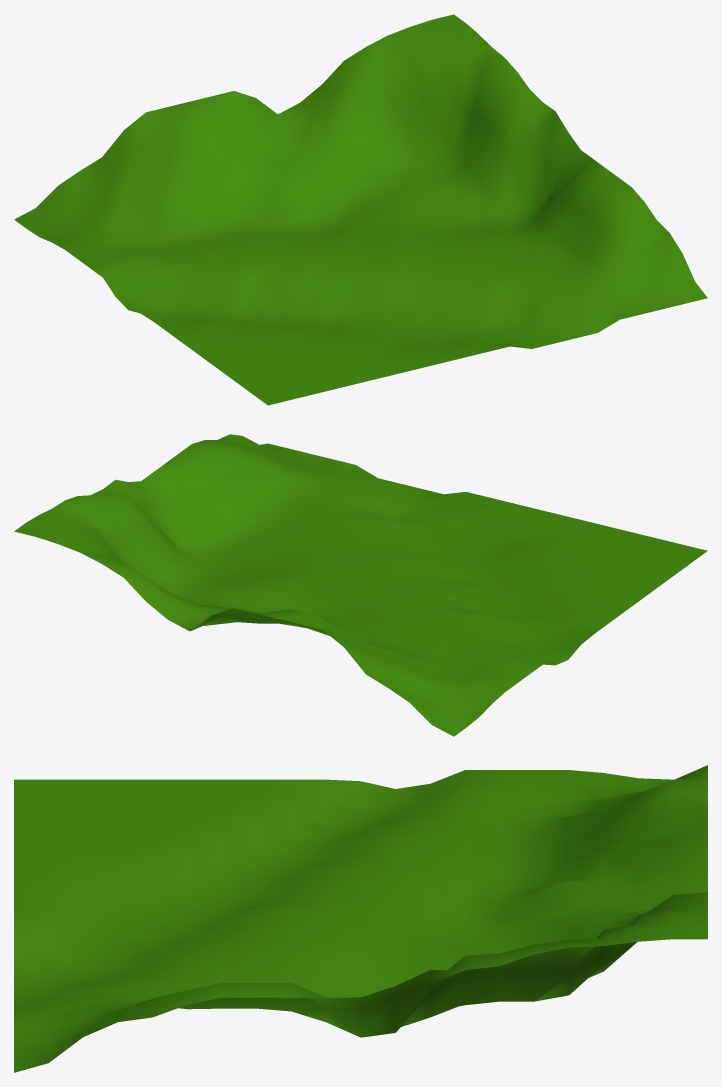
File: terrain.obj
3 views of the same model, one above another, from view 1: azimuth 30°, elevation 25°; view 2: azimuth 150°, elevation 25°; view 3: azimuth 270°, elevation 25° (orthographic). The views are drawn at different scales.
Visible parts, largest first — view 1: Plane003; view 2: Plane003; view 3: Plane003.
Boxes of the visible parts, <box> form: Plane003: <box>14,14,707,405</box>; Plane003: <box>14,434,707,736</box>; Plane003: <box>14,765,707,1072</box>.
Bounding box in the file's own units: 1024 × 235 × 1024.
